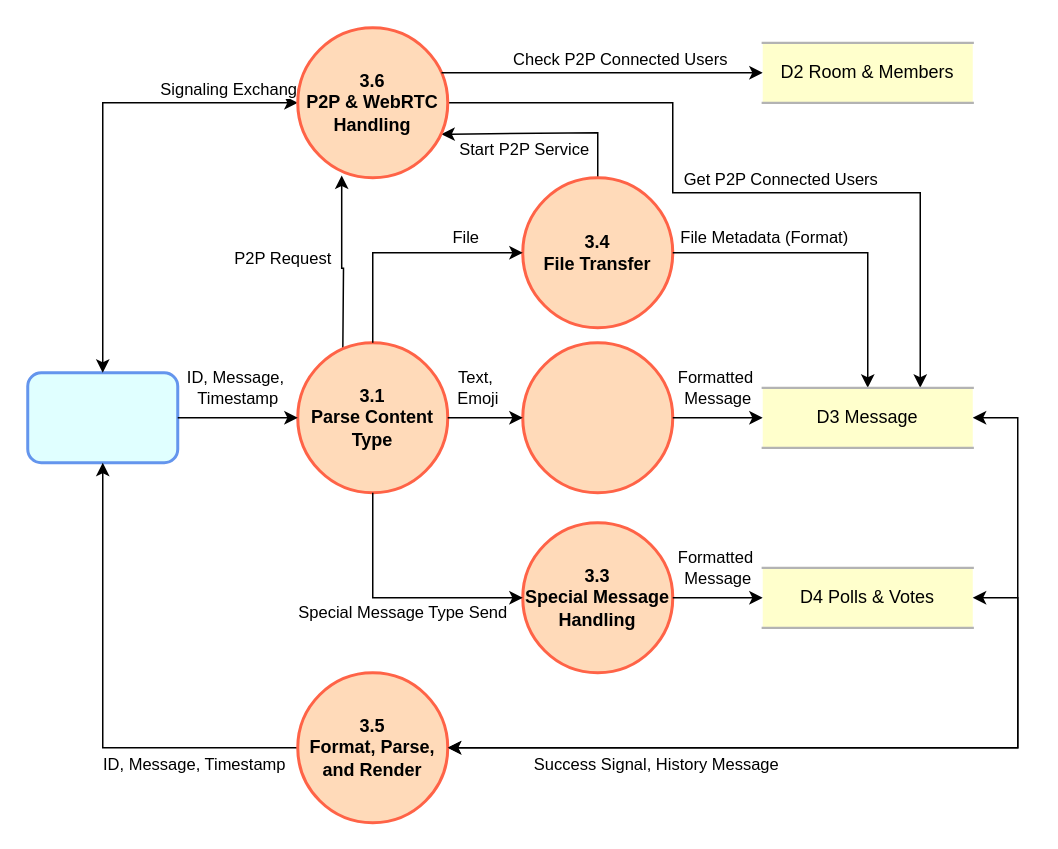
The diagram is 1058 pixels wide and 849 high, and some of its shapes have lost their labels. The centre of each missing label's shape, as x and y in pixels:
3.2 Standard Message Processing: the point at 597,417
Participant User: the point at 102,417
